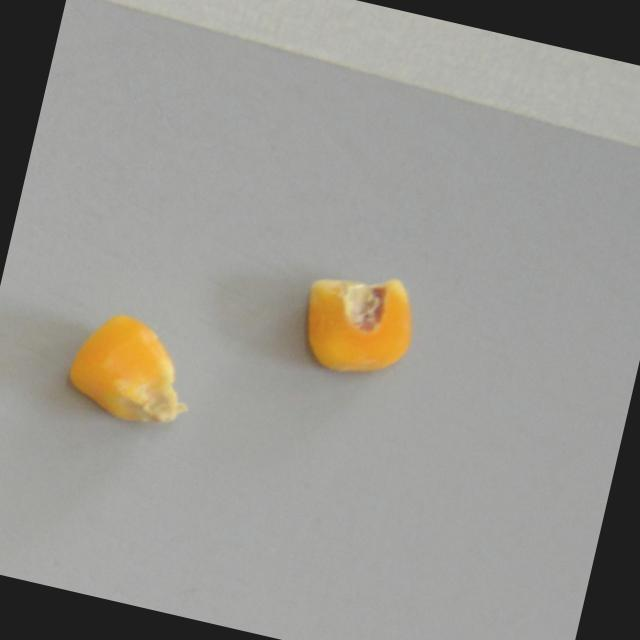dañado: (286, 256, 430, 391)
entero: (59, 302, 204, 437)
